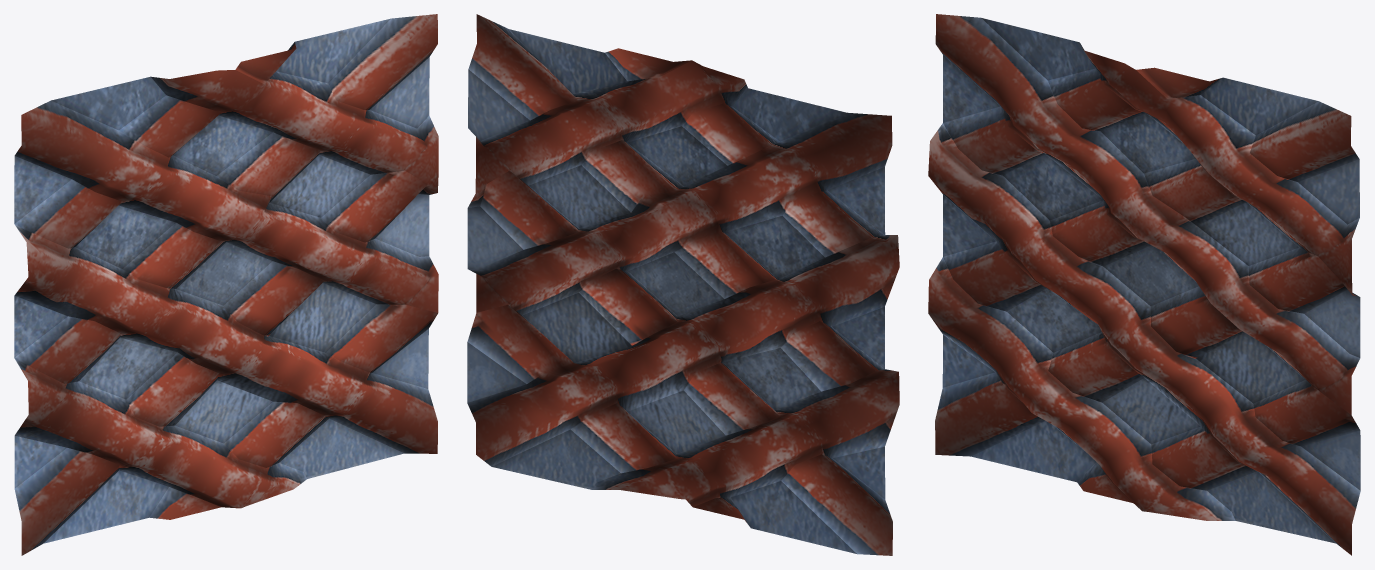
File: Glass 2.FBX
The picture shows the model from 3 angles, left to right: view 1: azimuth 30°, elevation 25°; view 2: azimuth 150°, elevation 25°; view 3: azimuth 330°, elevation 25°; orthographic projection.
Visible parts, largest first — view 1: Glass 2; view 2: Glass 2; view 3: Glass 2.
Part boxes in pixels (x1,y1,x2,y2): Glass 2: (14,14,438,555); Glass 2: (467,14,899,555); Glass 2: (928,14,1360,555).
Size of the model in its own units: 35.32 by 2.42 by 35.66.
Materials: 1 (1 with a texture image).
